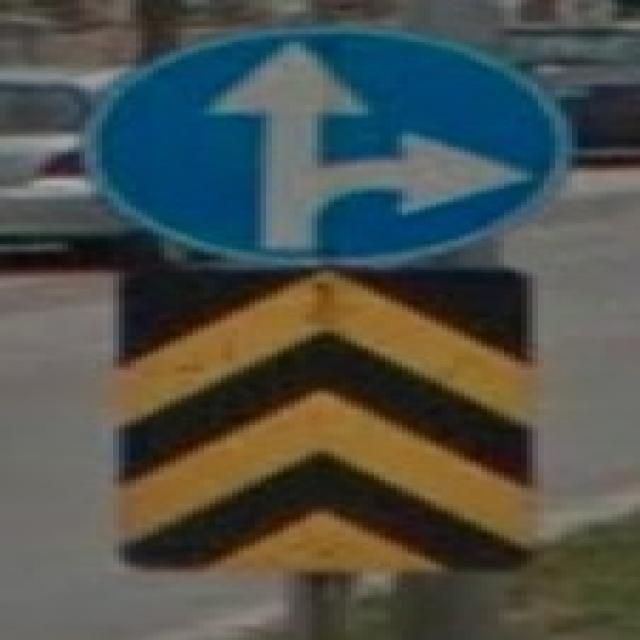Straight or Right: (83, 30, 565, 261)
